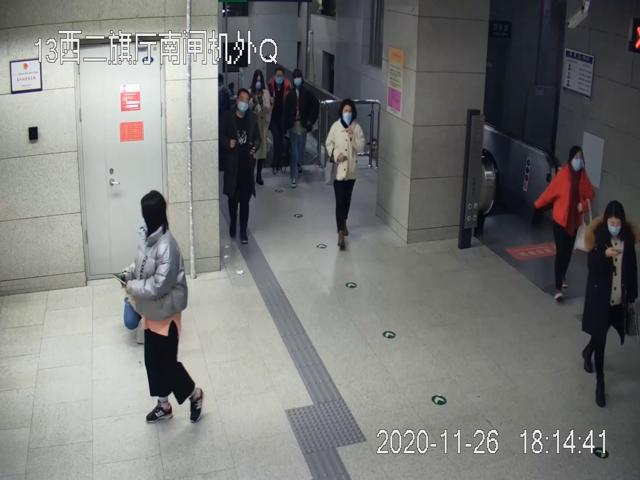person: (123, 191, 206, 425), (583, 200, 638, 405), (533, 144, 592, 299), (326, 97, 367, 250), (222, 87, 260, 246), (280, 68, 319, 187), (247, 69, 271, 185), (268, 64, 291, 176)
